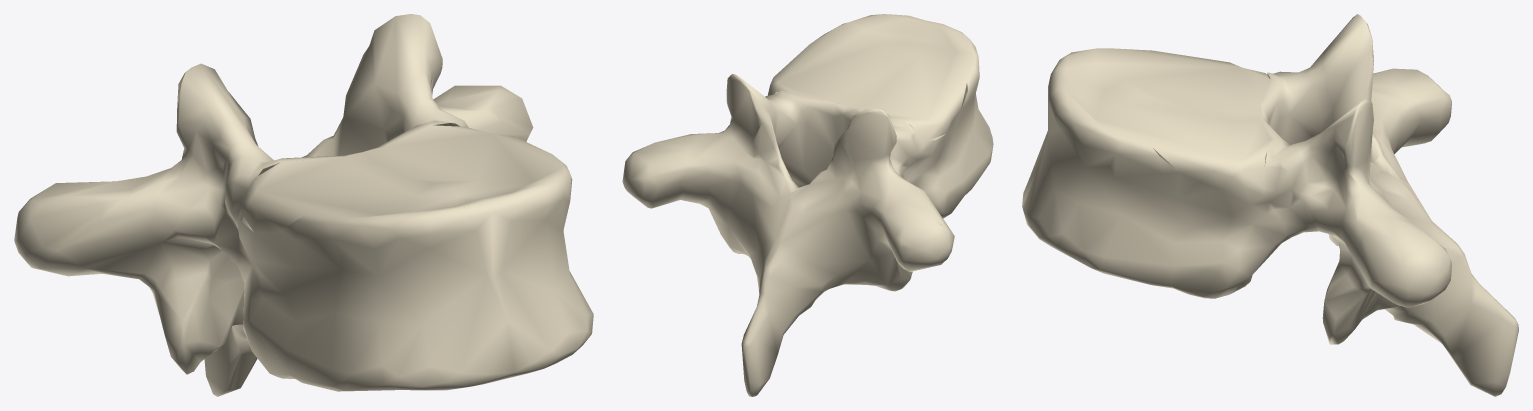
The model's file is esqueleto-vertebra-t9.glb.
3 renders of one model, left to right at view 1: azimuth 30°, elevation 25°; view 2: azimuth 150°, elevation 25°; view 3: azimuth 270°, elevation 25°, orthographic. The views are drawn at different scales.
Parts seen in each view (by area): view 1: Vertebra T9; view 2: Vertebra T9; view 3: Vertebra T9.
Part boxes in pixels (<box>): Vertebra T9: <box>14,14,593,396</box>; Vertebra T9: <box>622,14,993,396</box>; Vertebra T9: <box>1022,14,1518,396</box>.
Size of the model in its own units: 0.0723 by 0.0566 by 0.0757.
